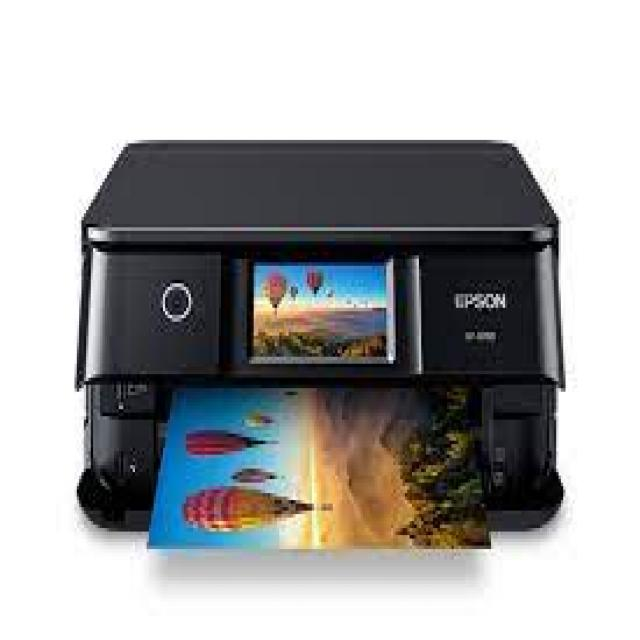printer: (46, 64, 602, 605)
